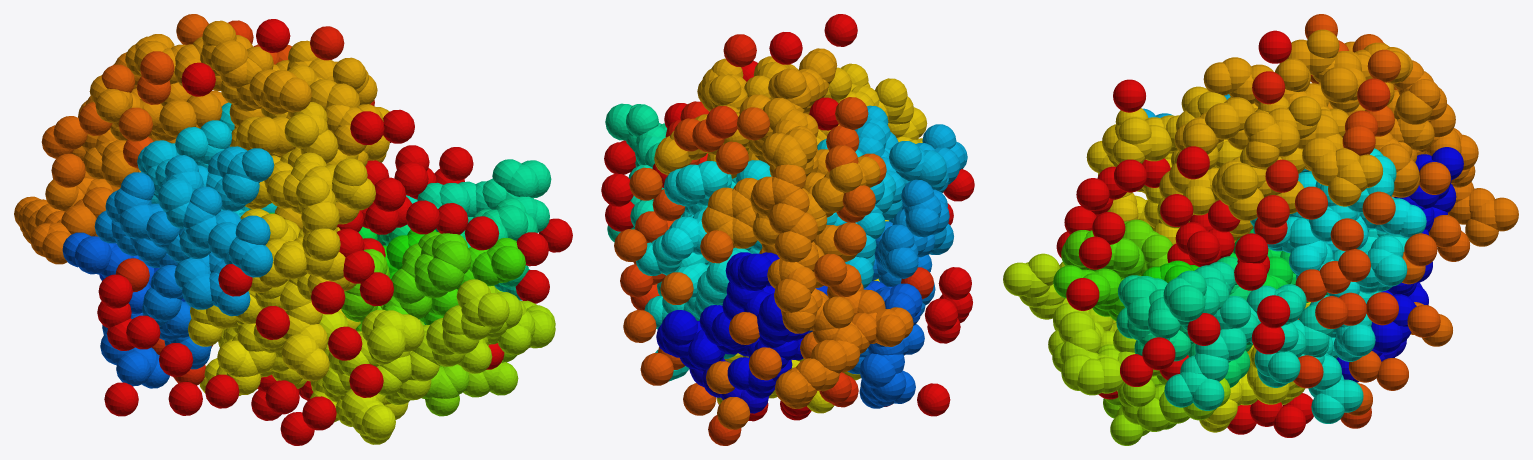
File: 1lyz__spheres__rainbow.glb
3 renders of one model, left to right at view 1: azimuth 30°, elevation 25°; view 2: azimuth 150°, elevation 25°; view 3: azimuth 270°, elevation 25°, orthographic. The views are drawn at different scales.
Visible parts, largest first — view 1: Renderer Node; view 2: Renderer Node; view 3: Renderer Node.
Part boxes in pixels (<box>): Renderer Node: <box>14,14,572,445</box>; Renderer Node: <box>601,14,974,445</box>; Renderer Node: <box>1003,14,1518,445</box>.
Size of the model in its own units: 42.59 by 40.17 by 47.23.
